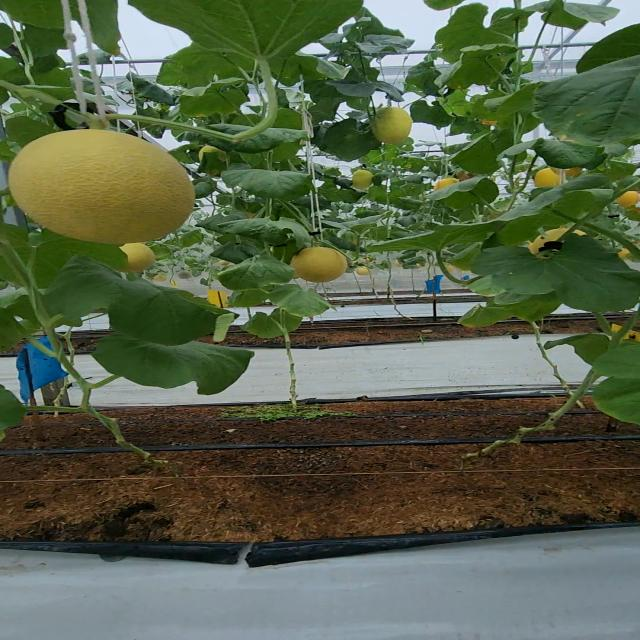Melon: (6, 126, 200, 246)
